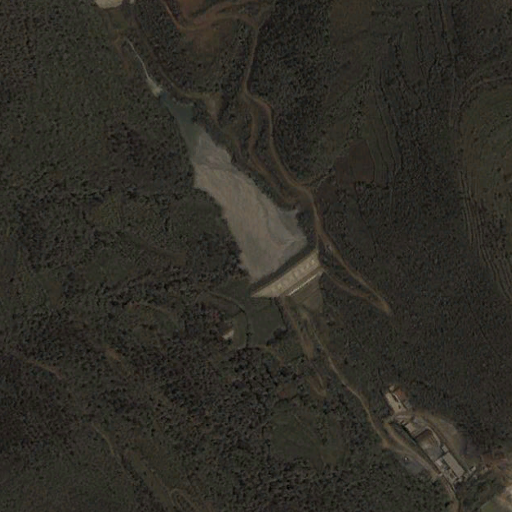tp: (149, 81, 321, 314)
